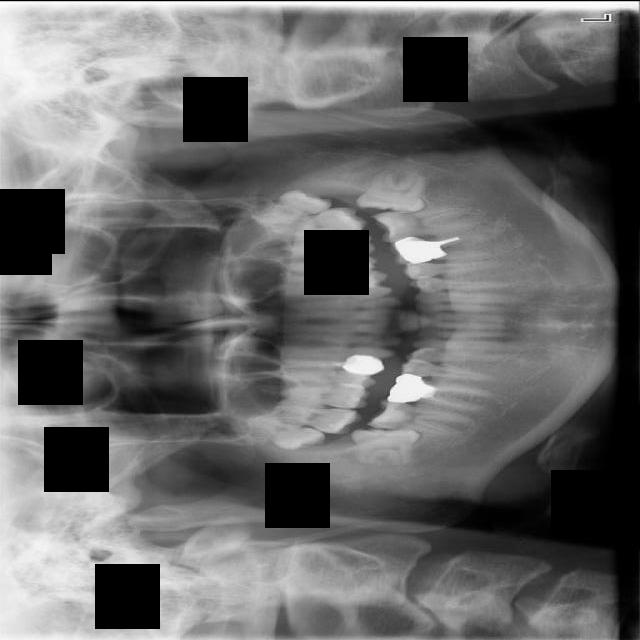3M ESPE Implant: (243, 413, 326, 457)
52: (389, 231, 433, 267), (387, 370, 426, 407), (344, 354, 382, 374)
73: (417, 378, 489, 415), (425, 233, 490, 261), (572, 128, 582, 134)
BioHorizons Implant: (270, 206, 368, 238)
BioLife Implant: (249, 182, 333, 227)
Biomet 3i Implant: (356, 165, 428, 214)
Blue Sky Bio Implant: (371, 201, 473, 244)
Caries: (239, 402, 363, 435)
Implant: (368, 397, 473, 437)
Keystone Dental Implant: (353, 425, 420, 465)
